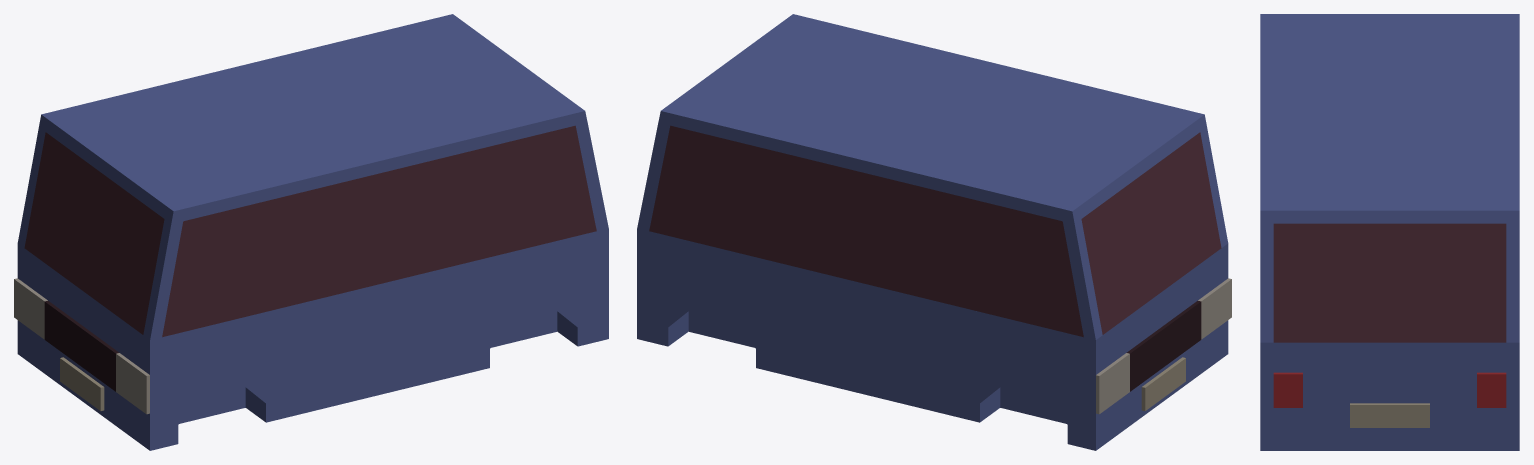
File: MiniVan_Blue.fbx
The picture shows the model from 3 angles, left to right: view 1: azimuth 30°, elevation 25°; view 2: azimuth 150°, elevation 25°; view 3: azimuth 270°, elevation 25°; orthographic projection. The views are drawn at different scales.
Parts seen in each view (by area): view 1: MiniVan_Blue, MiniVan_Lights; view 2: MiniVan_Blue, MiniVan_Lights; view 3: MiniVan_Blue, MiniVan_Lights.
Boxes of the visible parts, x1,y1,x2,y2 form: MiniVan_Blue: (17, 14, 608, 450); MiniVan_Lights: (14, 278, 149, 414); MiniVan_Blue: (637, 14, 1228, 450); MiniVan_Lights: (1096, 278, 1231, 414); MiniVan_Blue: (1260, 14, 1519, 450); MiniVan_Lights: (1273, 372, 1506, 407).
Size of the model in its own units: 3.96 by 1.9 by 1.95.
